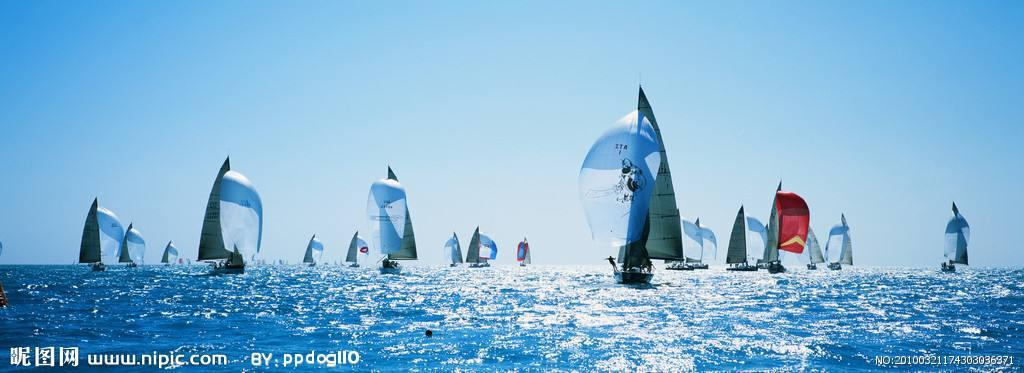fanchuan: (581, 84, 700, 288), (194, 155, 266, 282), (364, 165, 421, 280), (939, 198, 978, 275), (75, 188, 108, 277), (828, 213, 860, 271), (116, 218, 149, 268), (463, 225, 495, 269), (347, 231, 370, 271), (303, 234, 325, 268)
